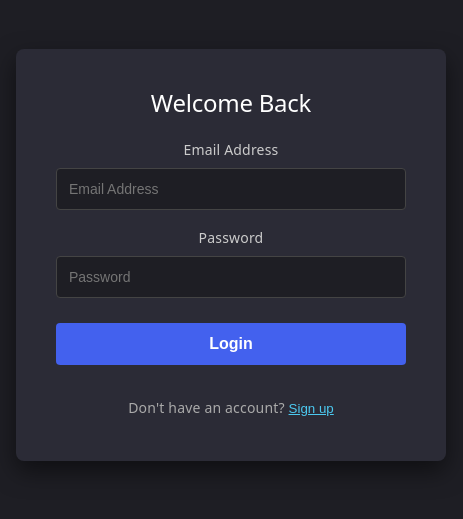
Login Component › handles missing session correctly
Type "test@test.com" into the field labelled "Email Address" at (231, 189), box [56,168,406,210]
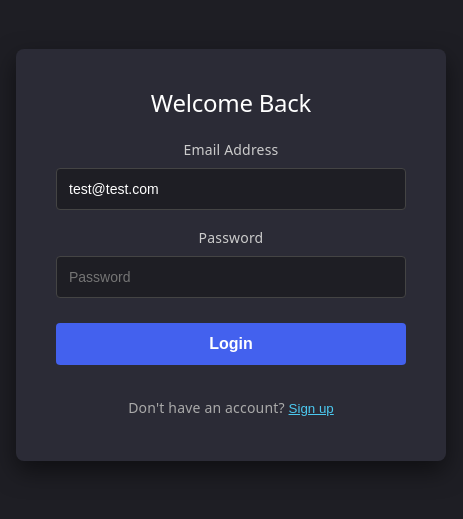
Type "password" into the password field labelled "Password" at (231, 277), box [56,256,406,298]
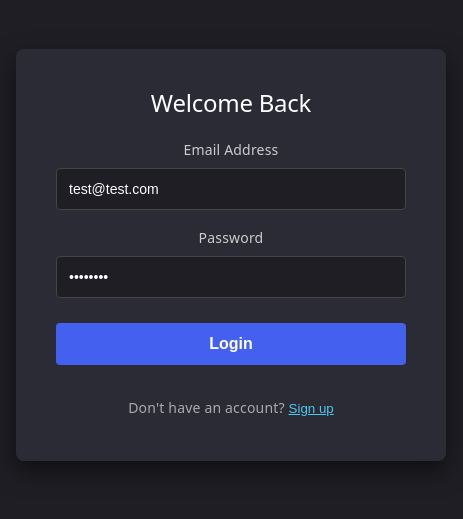
Click the button "Login" at (231, 344), box [56,323,406,365]
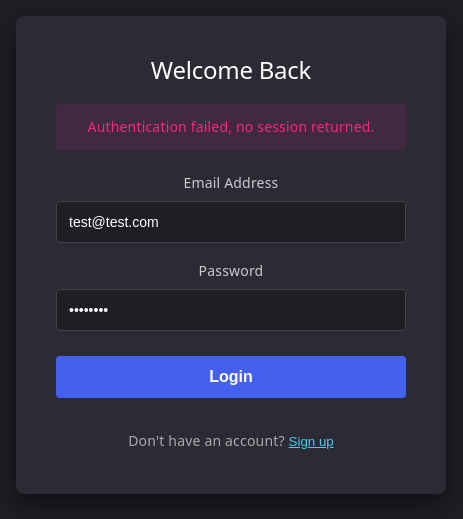
Check: the text "Authentication failed, no session returned." is shown, box [56,104,406,150]
